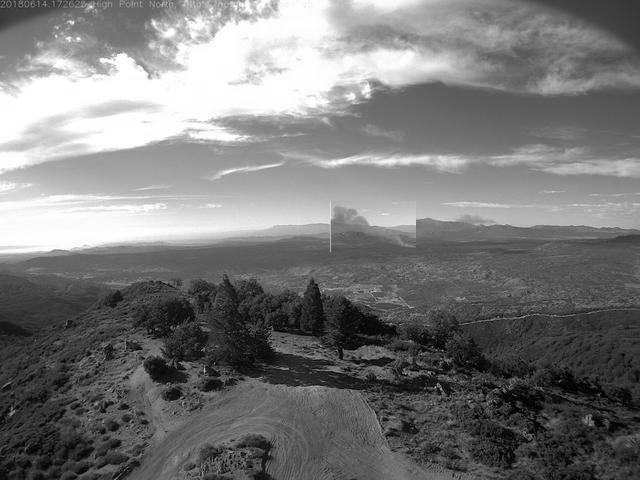smoke: (331, 202, 418, 254)
